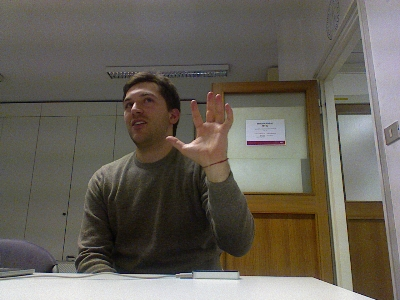布: (164, 90, 234, 165)
